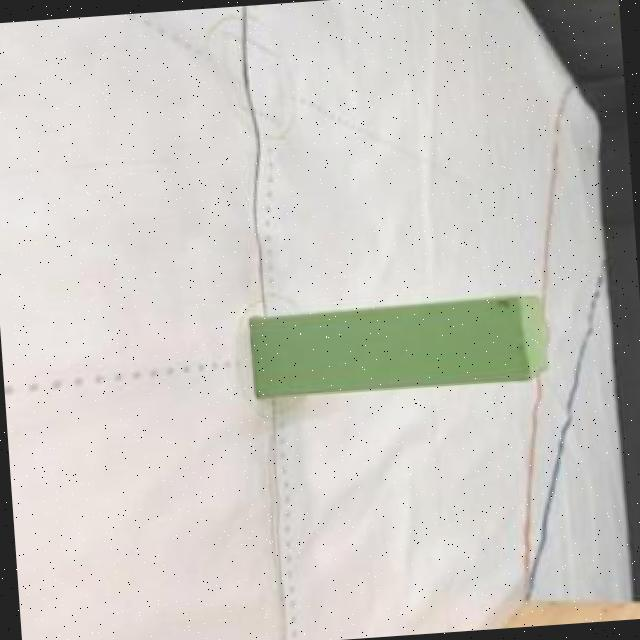greenbox: (244, 294, 546, 399)
